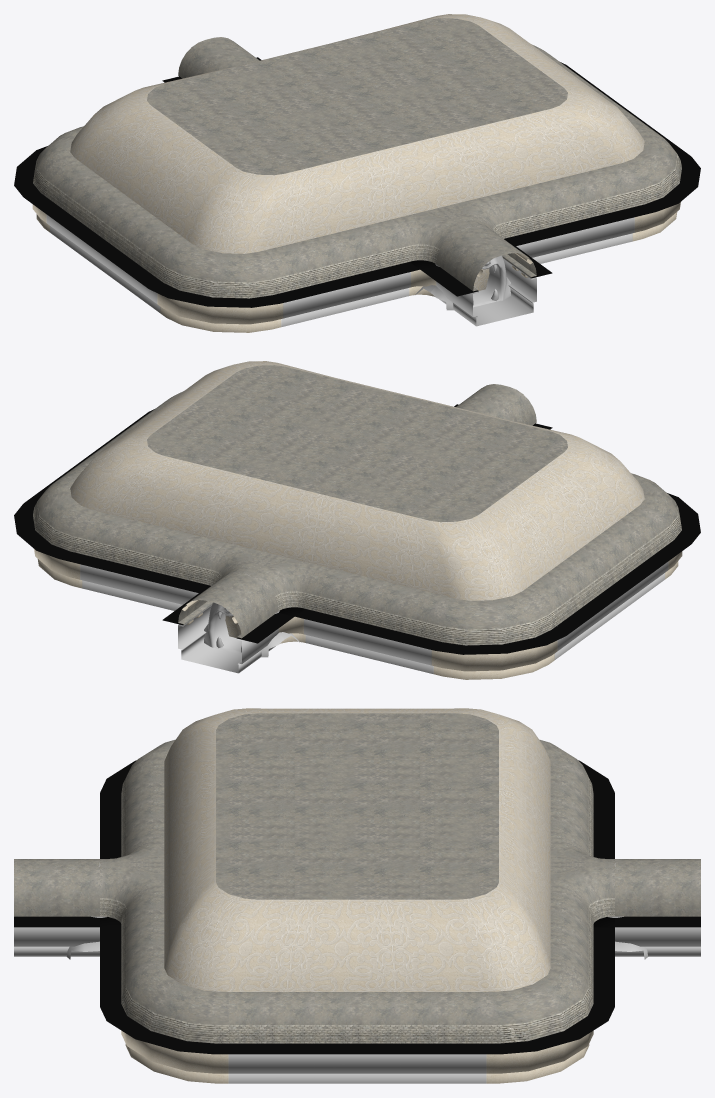
The model's file is dungeon_Boss Stage_exit.fbx.
3 renders of one model, top to bottom at view 1: azimuth 30°, elevation 25°; view 2: azimuth 150°, elevation 25°; view 3: azimuth 270°, elevation 25°, orthographic. The views are drawn at different scales.
Parts seen in each view (by area): view 1: polySurface662, polySurface654, polySurface600, polySurface563, dungeon_tile_009_sos:dungeon_Tile_02_Left_Roof, dungeon_Tile_02_Left_Roof2, polySurface552, dungeon_Tile_02_Left_Roof, dungeon_Tile_02_Left_Roof1; view 2: polySurface662, polySurface654, polySurface600, polySurface562, dungeon_Tile_02_Left_Roof2, dungeon_tile_009_sos:dungeon_Tile_02_Left_Roof, polySurface665, dungeon_Tile_02_Left_Roof1, dungeon_Tile_02_Left_Roof; view 3: polySurface662, polySurface654, polySurface600, dungeon_Tile_02_Left_Roof, dungeon_Tile_02_Left_Roof1, polySurface562, polySurface563.
Part boxes in pixels (x1,y1,x2,y2): polySurface662: (70, 14, 644, 253); polySurface654: (33, 44, 681, 298); polySurface600: (14, 62, 700, 332); polySurface563: (420, 246, 552, 326); dungeon_tile_009_sos:dungeon_Tile_02_Left_Roof: (436, 228, 504, 291); dungeon_Tile_02_Left_Roof2: (178, 39, 244, 78); polySurface552: (415, 227, 510, 310); dungeon_Tile_02_Left_Roof: (468, 226, 536, 277); dungeon_Tile_02_Left_Roof1: (210, 37, 259, 63); polySurface662: (70, 361, 644, 600); polySurface654: (33, 391, 681, 645); polySurface600: (14, 409, 700, 679); polySurface562: (162, 593, 294, 673); dungeon_Tile_02_Left_Roof2: (210, 575, 278, 638); dungeon_tile_009_sos:dungeon_Tile_02_Left_Roof: (471, 386, 536, 425); polySurface665: (204, 574, 299, 657); dungeon_Tile_02_Left_Roof1: (178, 573, 246, 624); dungeon_Tile_02_Left_Roof: (456, 384, 504, 410); polySurface662: (164, 708, 550, 991); polySurface654: (100, 739, 614, 1043); polySurface600: (100, 760, 614, 1083); dungeon_Tile_02_Left_Roof: (14, 864, 99, 916); dungeon_Tile_02_Left_Roof1: (615, 864, 700, 916); polySurface562: (615, 916, 700, 956); polySurface563: (14, 916, 99, 956).
Size of the model in its own units: 510 by 103 by 480.
